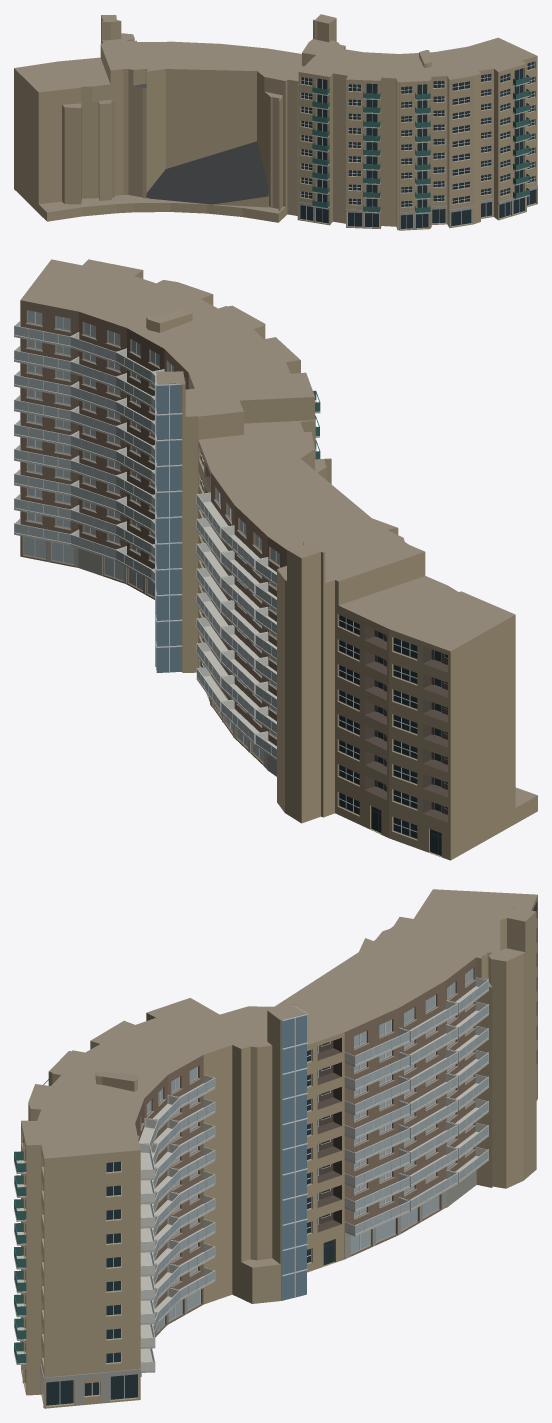
File: recipe-large-lucien-gaudinstraat-144-094223.glb
3 views of the same model, one above another, from view 1: azimuth 30°, elevation 25°; view 2: azimuth 150°, elevation 25°; view 3: azimuth 270°, elevation 25° (orthographic). The views are drawn at different scales.
Parts seen in each view (by area): view 1: lucien-gaudinstraat-144-094223; view 2: lucien-gaudinstraat-144-094223; view 3: lucien-gaudinstraat-144-094223.
Part boxes in pixels (x1=…): lucien-gaudinstraat-144-094223: x1=14, y1=14, x2=537, y2=230; lucien-gaudinstraat-144-094223: x1=14, y1=259, x2=537, y2=860; lucien-gaudinstraat-144-094223: x1=14, y1=889, x2=537, y2=1408.
Size of the model in its own units: 78.24 by 32.31 by 54.53.
